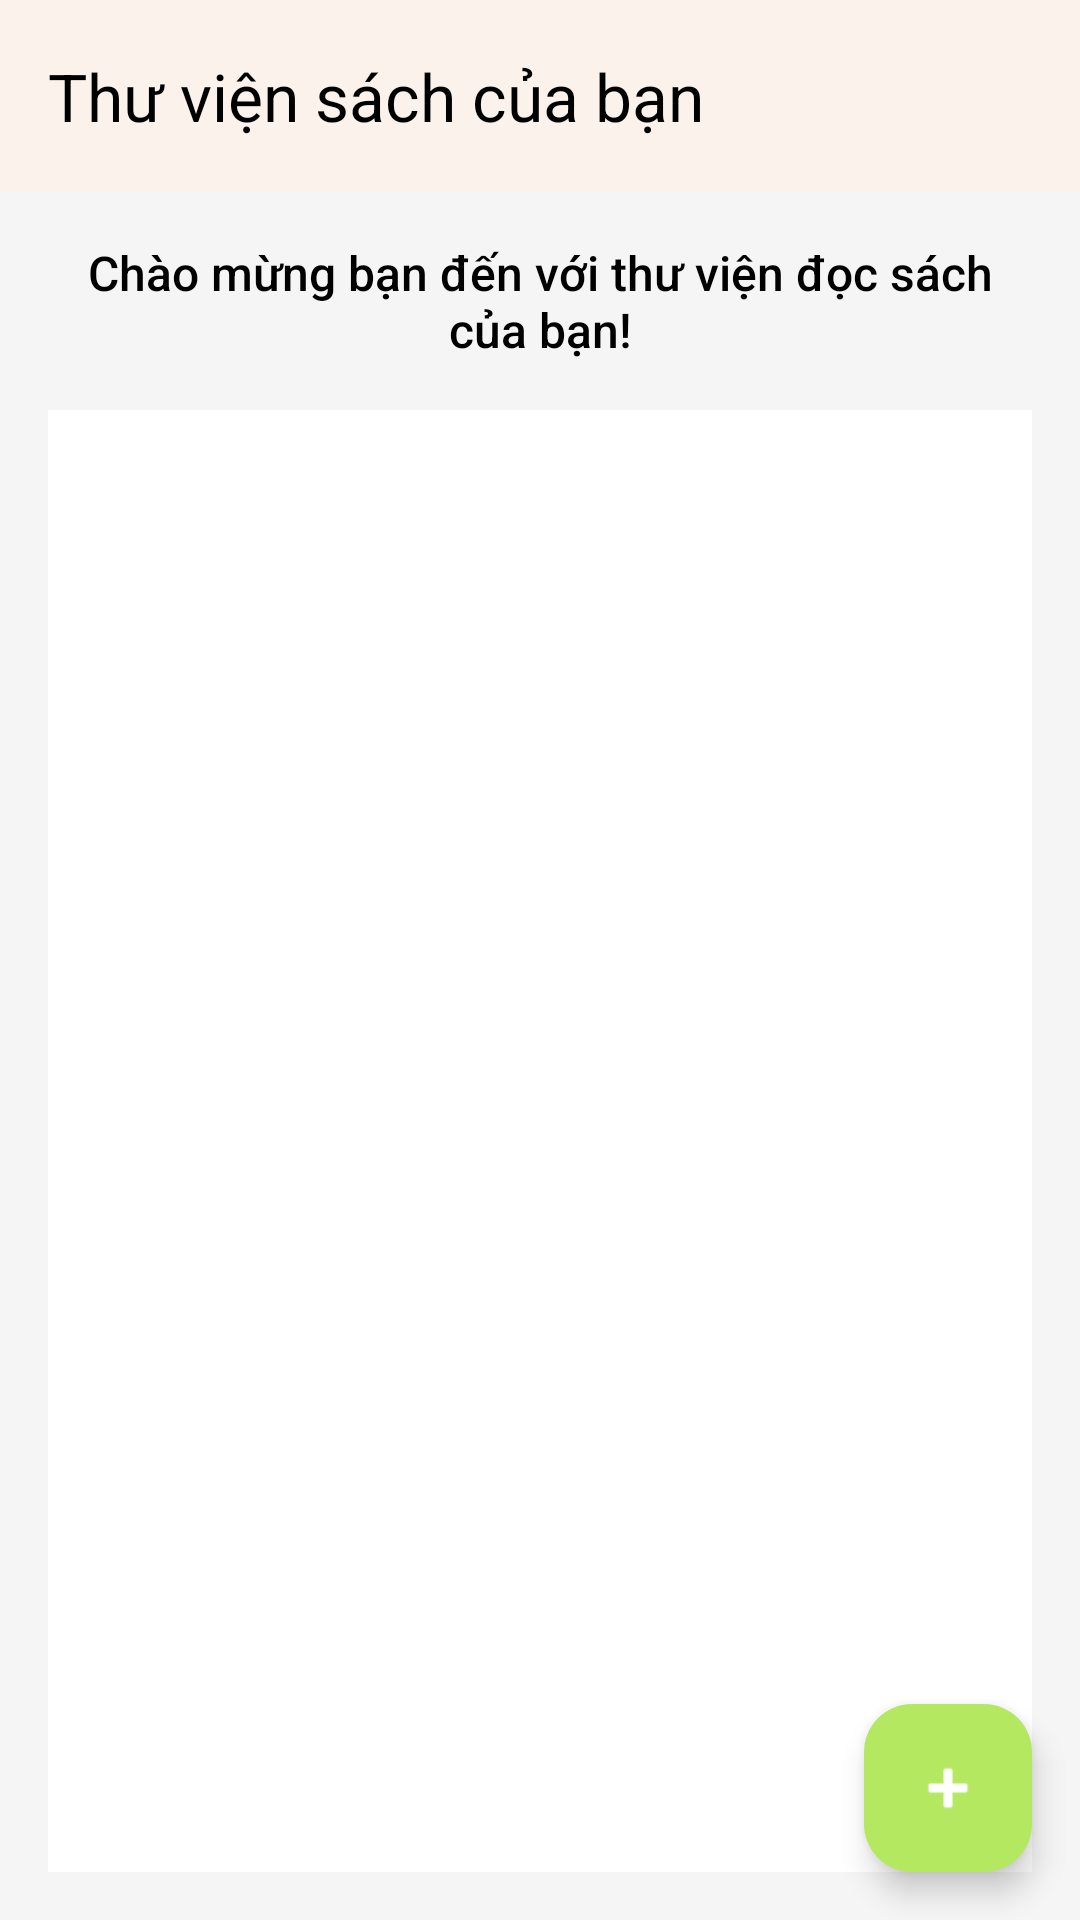

Screen size 1080x1920. Icon name, then its center in pixels as [x,y]:
Tải sách lên: [948,1788]
